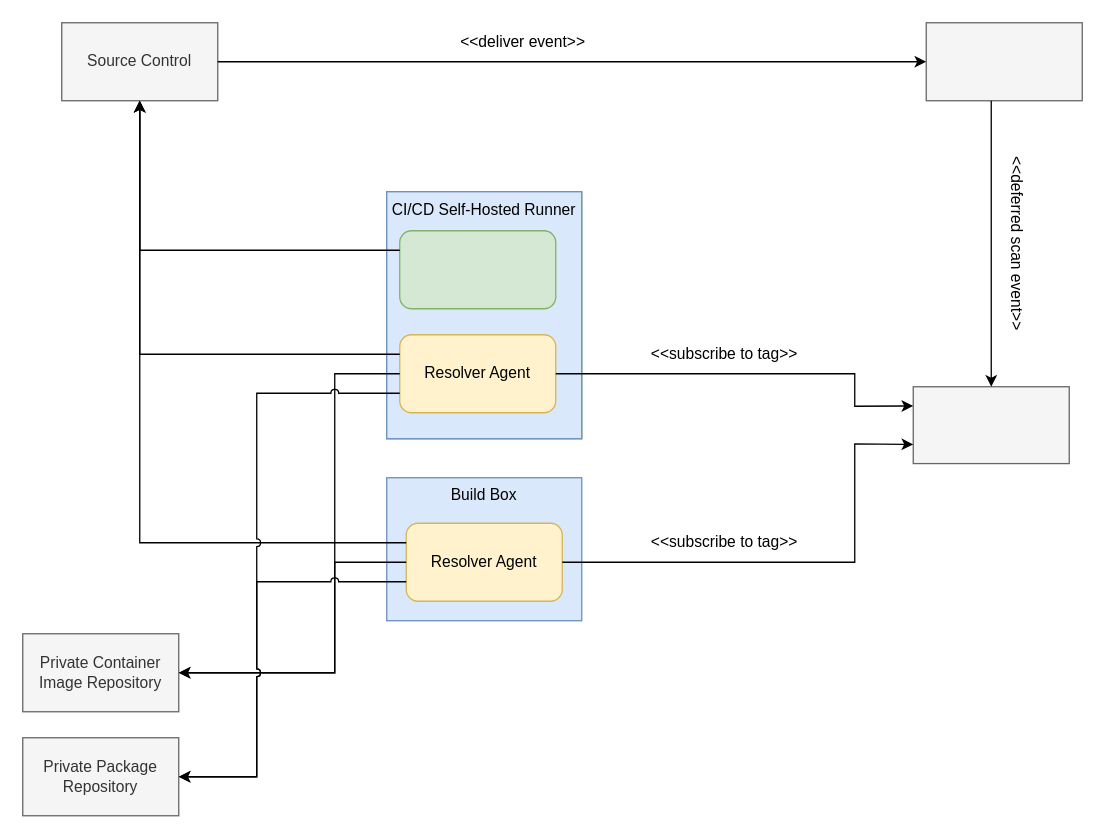
Some shapes in this 1105 by 838 pixel diagram are drawn without their labels. The shapes that lost their labels are listed below. From the top down, each one's centre as x and y in pixels, then its label:
At (x=1003, y=61): "CxOneFlow Instance".
At (x=477, y=269): "Runner Agent (third-party)".
At (x=990, y=424): "AMQP Server".
